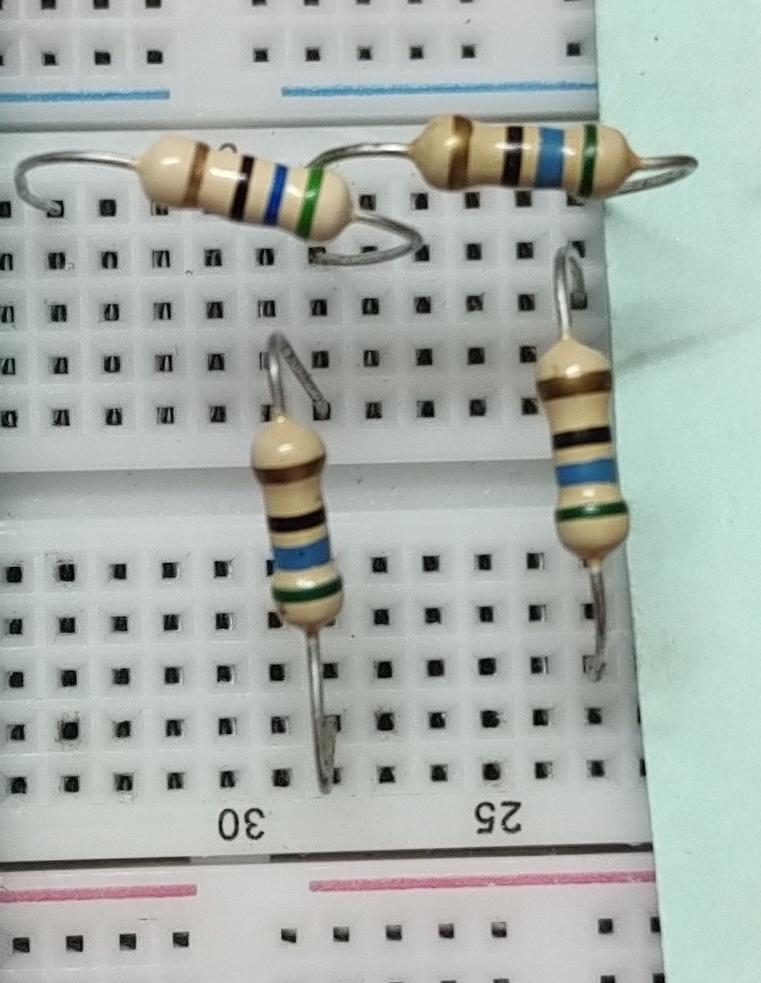resistor: (129, 115, 360, 269), (221, 395, 362, 640), (521, 321, 654, 567), (411, 95, 647, 210)
